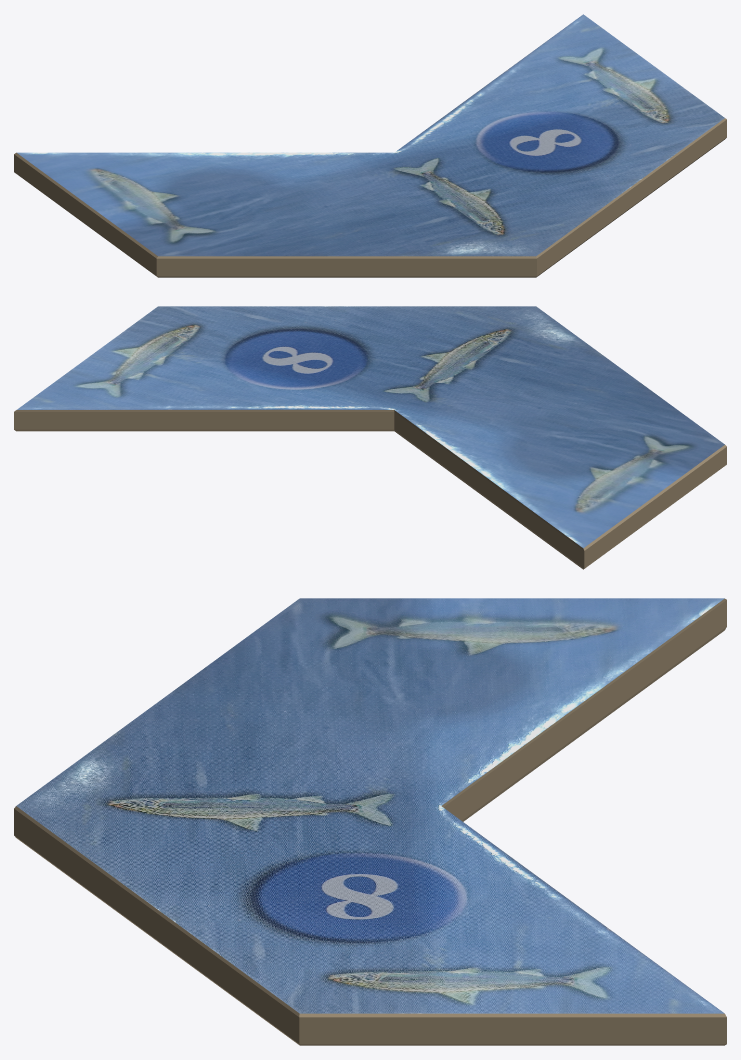
Rendered from ground-8.fbx.
The picture shows the model from 3 angles, top to bottom: view 1: azimuth 30°, elevation 25°; view 2: azimuth 150°, elevation 25°; view 3: azimuth 270°, elevation 25°; orthographic projection. The views are drawn at different scales.
Parts seen in each view (by area): view 1: ground-8.001; view 2: ground-8.001; view 3: ground-8.001.
Part boxes in pixels (x1,y1,x2,y2): ground-8.001: [14, 14, 726, 277]; ground-8.001: [14, 306, 726, 569]; ground-8.001: [14, 598, 726, 1045].
Bounding box in the file's own units: 4.2 × 0.15 × 3.03.
Materials: 2 (1 with a texture image).
